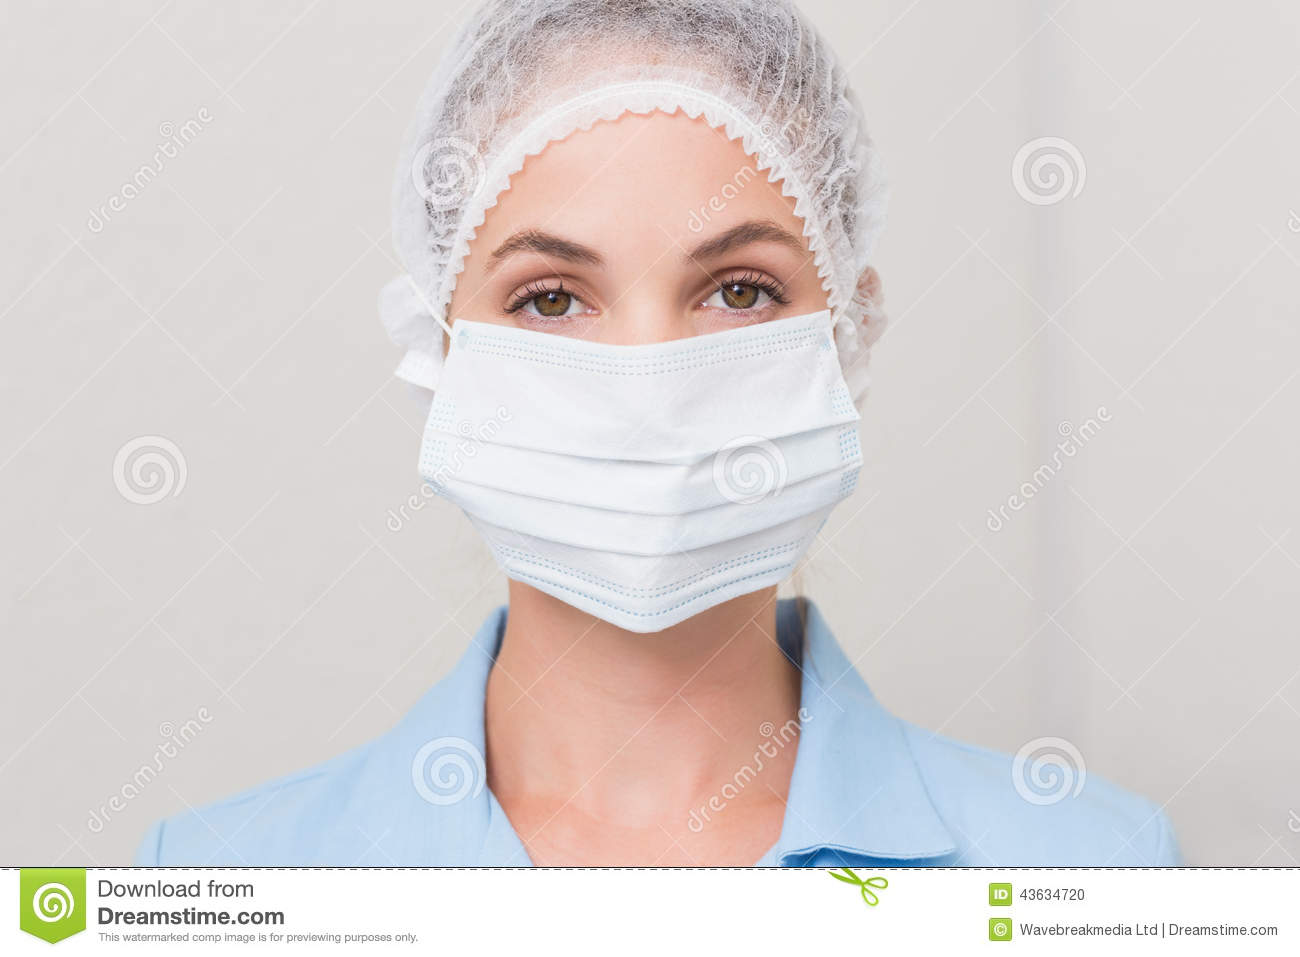mask: (435, 326, 866, 623)
